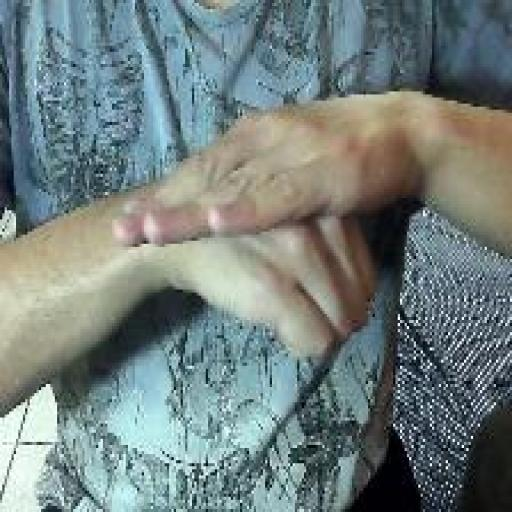Inu -dog-: (110, 91, 382, 366)
